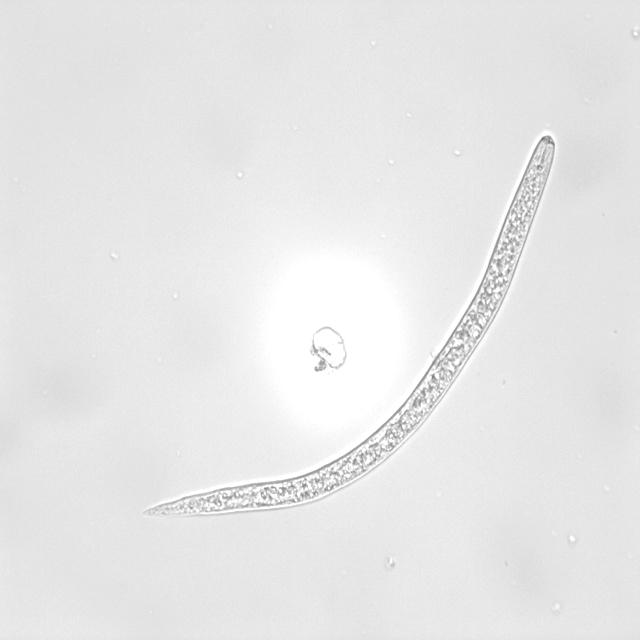Radopholus: (136, 134, 558, 524)
